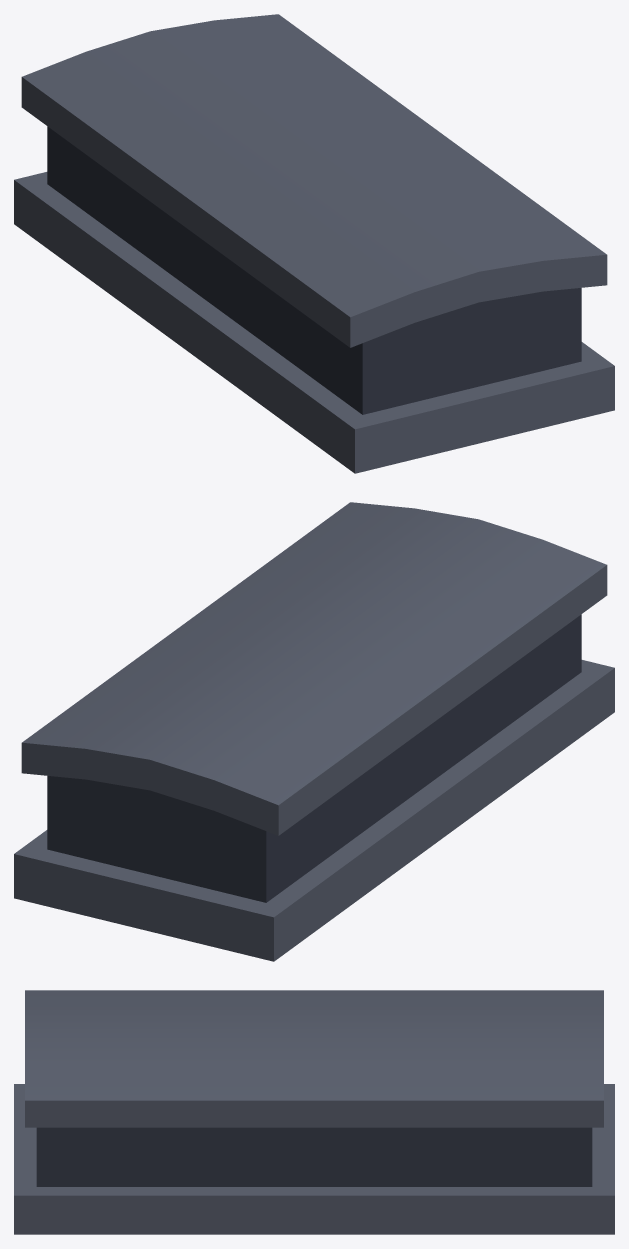
File: Mesh_tomb_1.fbx
3 renders of one model, top to bottom at view 1: azimuth 30°, elevation 25°; view 2: azimuth 150°, elevation 25°; view 3: azimuth 270°, elevation 25°, orthographic. The views are drawn at different scales.
Visible parts, largest first — view 1: tomb_1; view 2: tomb_1; view 3: tomb_1.
Part boxes in pixels (x1,y1,x2,y2): tomb_1: (14, 14, 614, 473); tomb_1: (14, 502, 614, 961); tomb_1: (14, 990, 614, 1234).
Size of the model in its own units: 107 by 65.17 by 243.
Materials: 1 (1 with a texture image).
